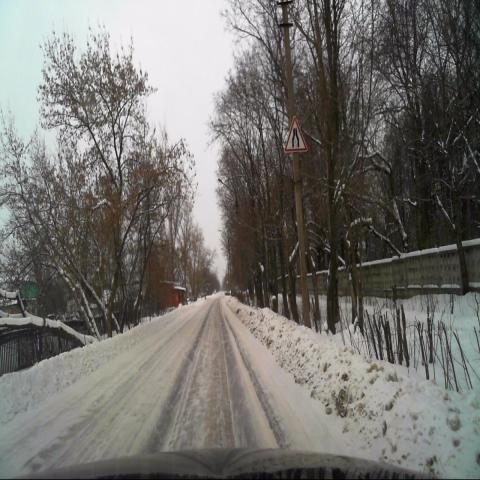1_20: (284, 116, 307, 153)
